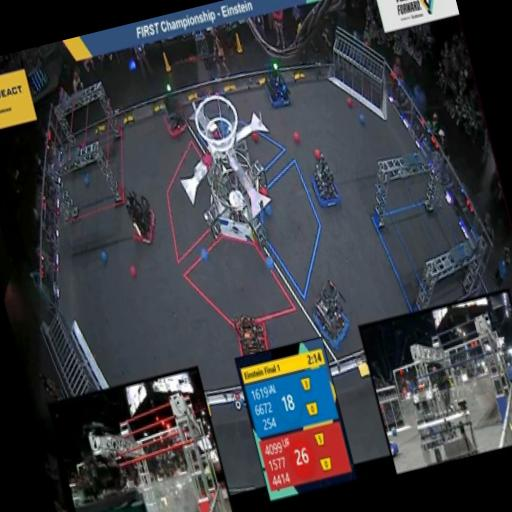robot: (296, 262, 361, 348), (110, 180, 164, 254), (300, 149, 349, 225), (220, 298, 280, 360), (150, 80, 196, 140), (256, 56, 300, 116)
